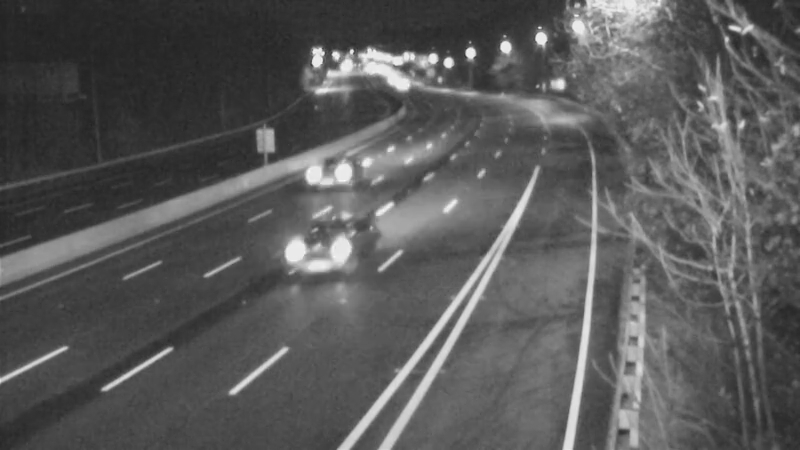vehicle: (285, 127, 365, 207), (275, 213, 355, 293), (377, 60, 427, 110)
